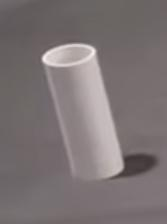coral: (40, 43, 125, 181)
